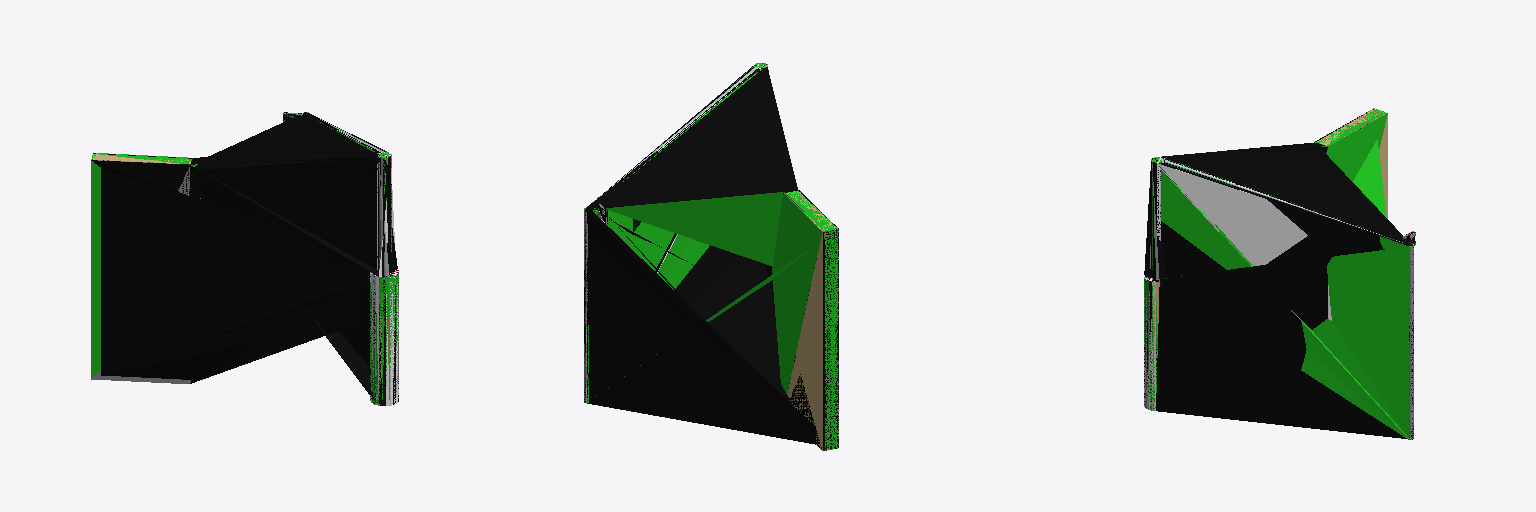
The model's file is solar.obj.
3 views of the same model, side by side, from view 1: azimuth 30°, elevation 25°; view 2: azimuth 150°, elevation 25°; view 3: azimuth 270°, elevation 25° (orthographic).
Bounding box in the file's own units: 64.36 × 67.36 × 64.2.